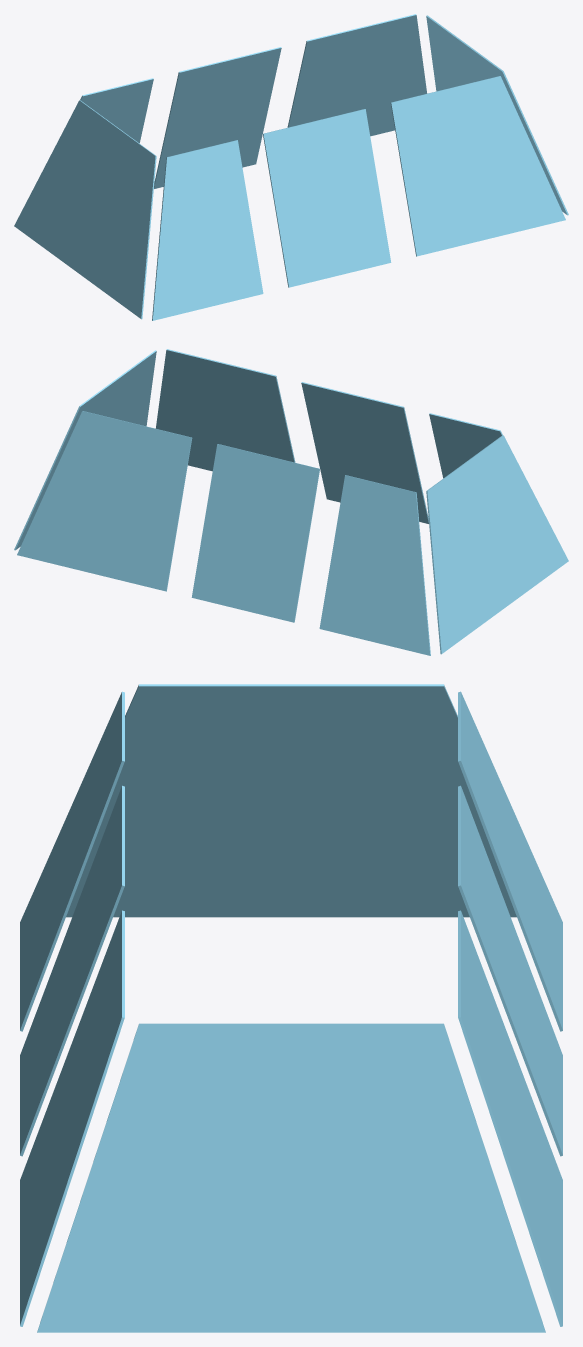
File: Windows.glb
3 renders of one model, top to bottom at view 1: azimuth 30°, elevation 25°; view 2: azimuth 150°, elevation 25°; view 3: azimuth 270°, elevation 25°, orthographic. The views are drawn at different scales.
Parts seen in each view (by area): view 1: Cube.122; view 2: Cube.122; view 3: Cube.122.
Part boxes in pixels (x1=…): Cube.122: x1=14, y1=14, x2=568, y2=320; Cube.122: x1=14, y1=349, x2=568, y2=655; Cube.122: x1=20, y1=684, x2=562, y2=1332.
Size of the model in its own units: 0.1079 by 0.0327 by 0.0594.
Materials: 1 (1 with a texture image).
